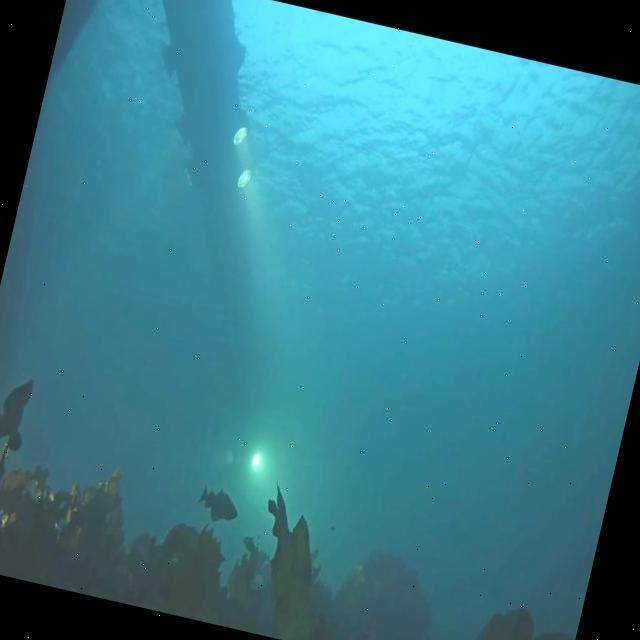fish: (192, 482, 243, 526)
